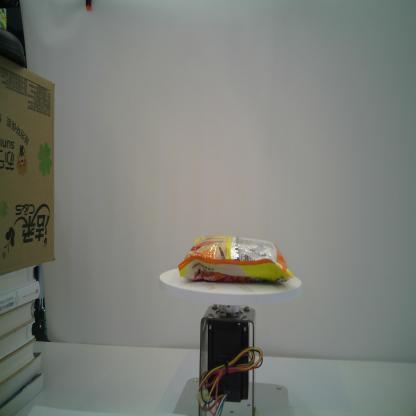Instant Noodles: (177, 234, 295, 284)
